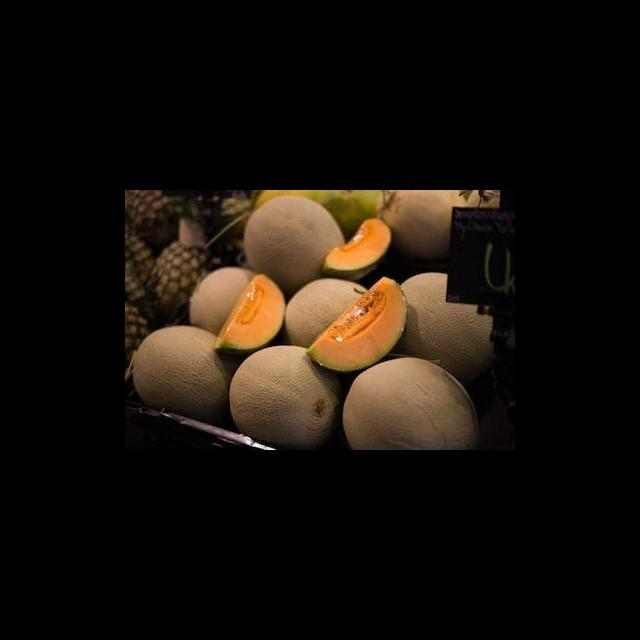Hami Melon: (345, 355, 479, 450), (231, 343, 344, 450), (309, 277, 409, 372), (134, 328, 233, 415), (214, 272, 286, 354), (321, 218, 396, 281)
